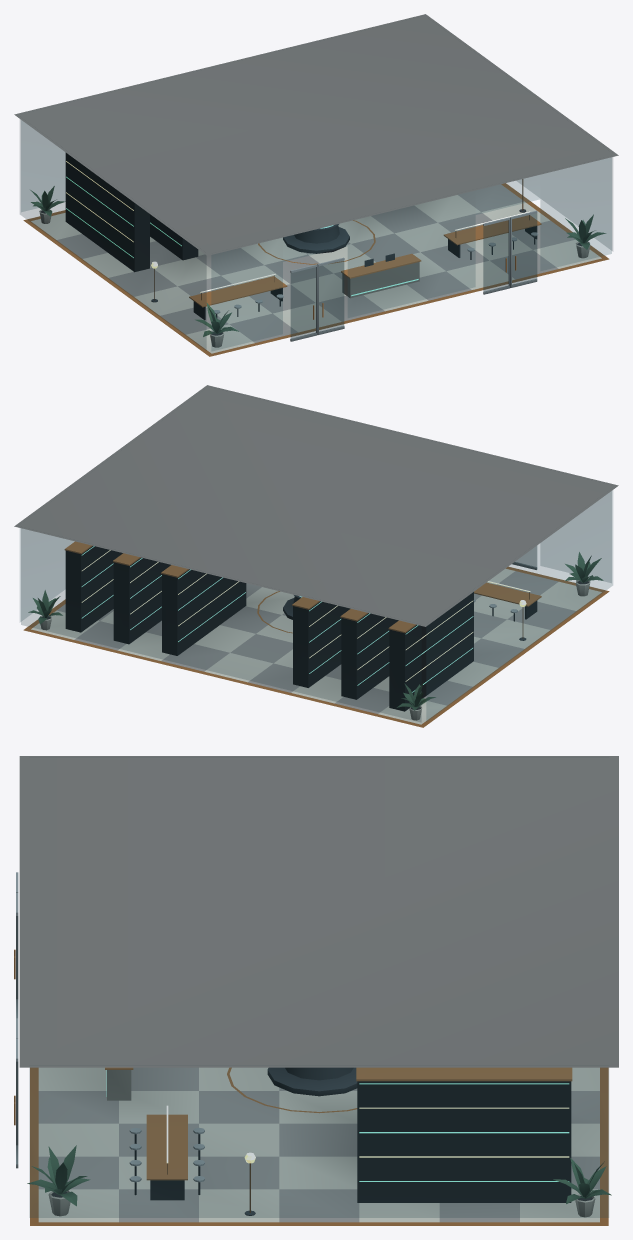
File: lobby-memory.lod1.glb
3 renders of one model, top to bottom at view 1: azimuth 30°, elevation 25°; view 2: azimuth 150°, elevation 25°; view 3: azimuth 270°, elevation 25°, orthographic. The views are drawn at different scales.
Visible parts, largest first — view 1: structure, door_1_l, door_0_l, door_0_r, door_1_r, foliage; view 2: structure, foliage; view 3: structure, foliage.
Part boxes in pixels (<box>): structure: <box>14,14,618,356</box>; door_1_l: <box>483,217,510,294</box>; door_0_l: <box>290,264,317,341</box>; door_0_r: <box>317,257,344,334</box>; door_1_r: <box>510,210,537,287</box>; foliage: <box>30,186,606,336</box>; structure: <box>14,385,618,727</box>; foliage: <box>28,552,603,710</box>; structure: <box>19,756,618,1225</box>; foliage: <box>27,1145,611,1206</box>.
Size of the model in its own units: 21.36 by 5.22 by 17.52.
